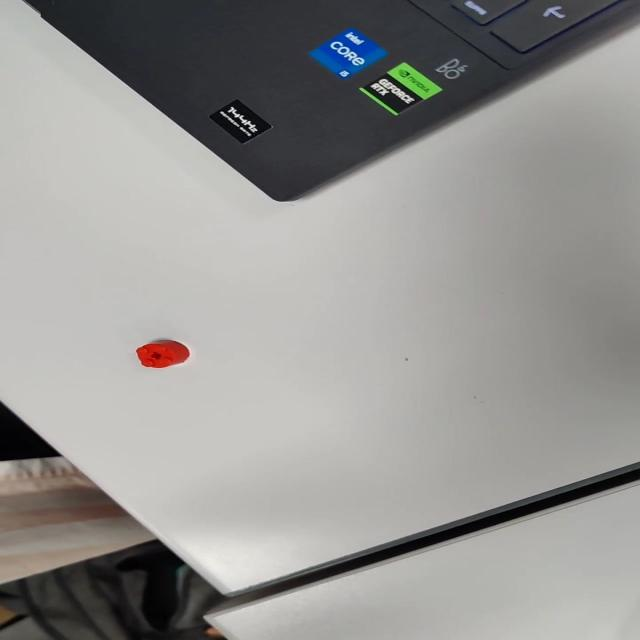S2x2x1: (131, 338, 191, 371)
